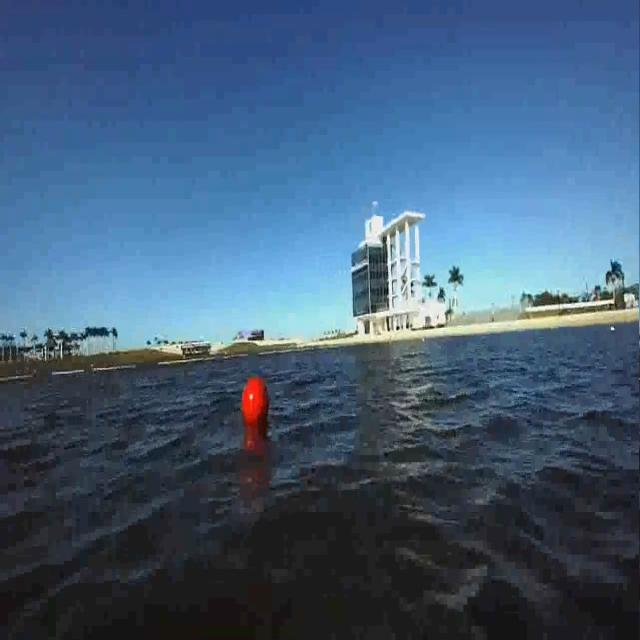red-buoy: (241, 376, 269, 429)
